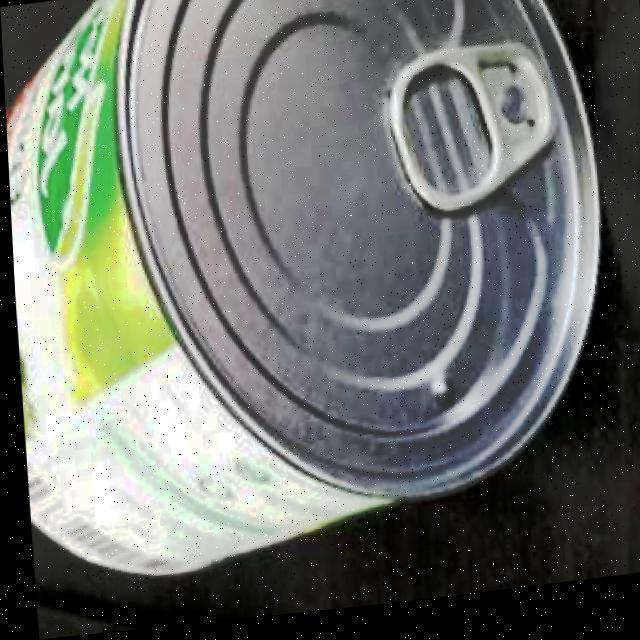Lata: (7, 0, 601, 580)
